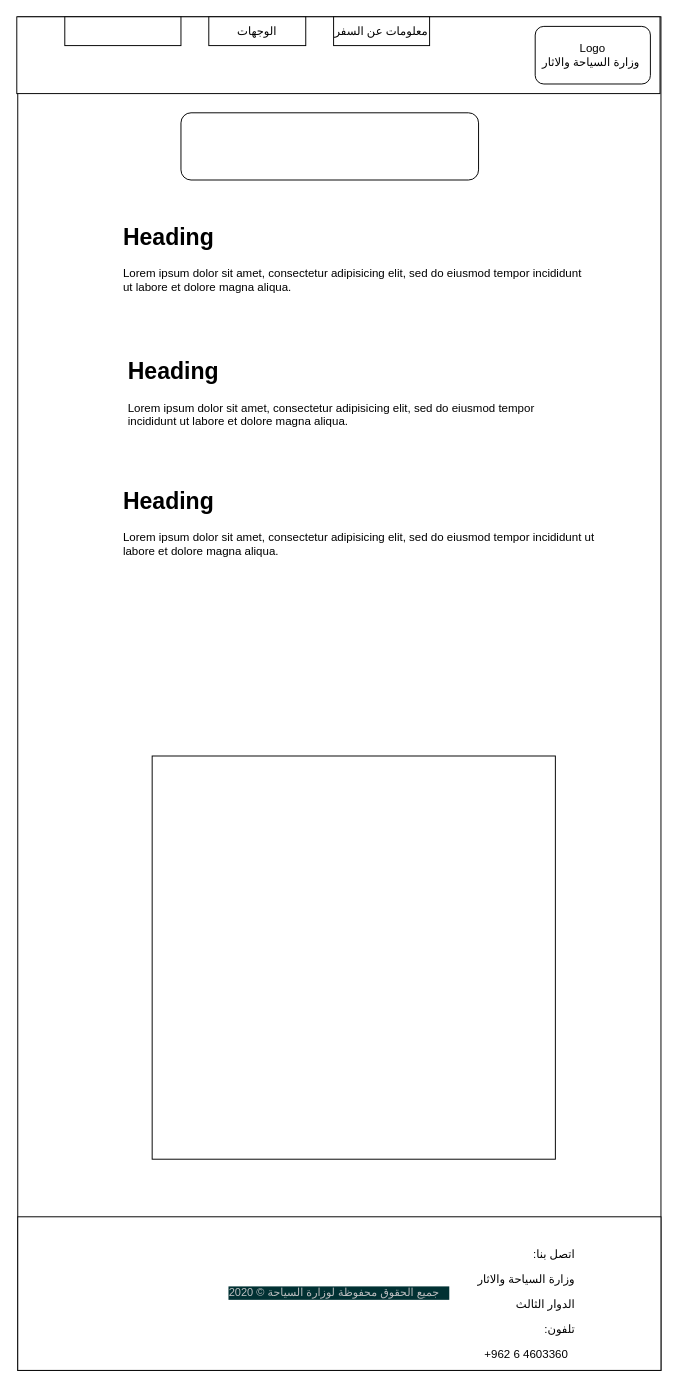
Image size: 678x1387. Some labels were removed from this diagram. The box of each missing label's shape, as (x1, y1, x2, y2) in pixels:
الضفحة الرئيسية: (64, 16, 181, 46)
عن الوزارة/الرؤية: (180, 112, 479, 180)
